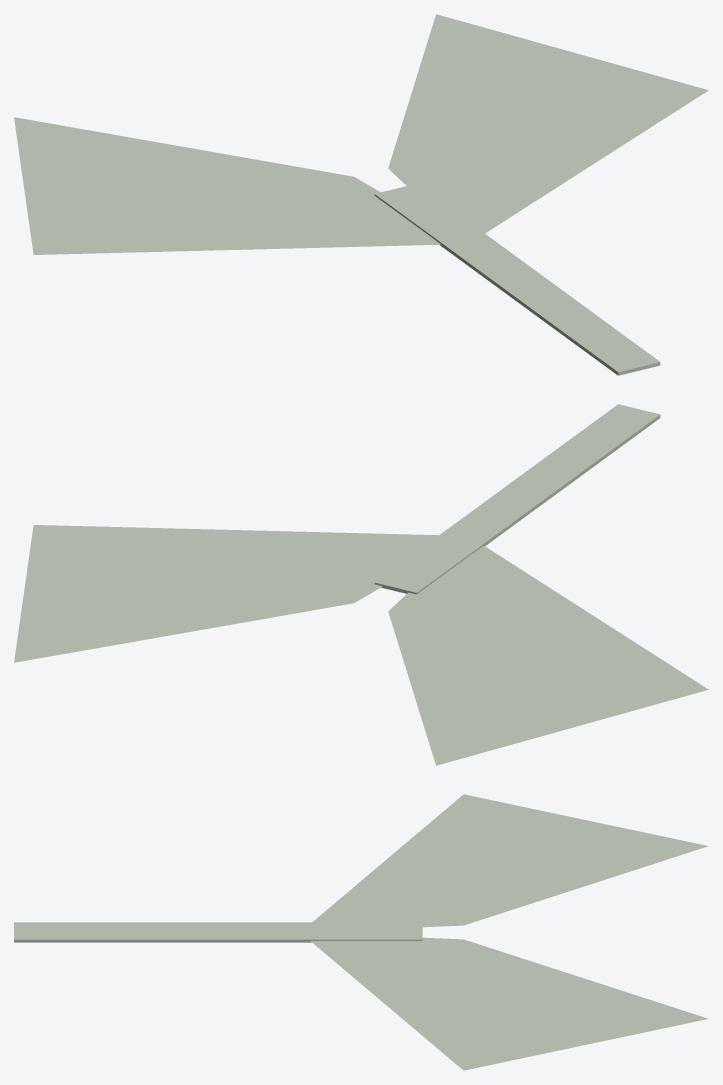
File: SM_MP_Half_Sprout.fbx
3 views of the same model, one above another, from view 1: azimuth 30°, elevation 25°; view 2: azimuth 150°, elevation 25°; view 3: azimuth 270°, elevation 25° (orthographic). The views are drawn at different scales.
Visible parts, largest first — view 1: SM_MP_Half_Sprout; view 2: SM_MP_Half_Sprout; view 3: SM_MP_Half_Sprout.
Boxes of the visible parts, x1,y1,x2,y2 form: SM_MP_Half_Sprout: [14, 14, 708, 375]; SM_MP_Half_Sprout: [14, 404, 708, 765]; SM_MP_Half_Sprout: [14, 794, 708, 1070].
Size of the model in its own units: 800 by 850 by 4.
Materials: 1 (1 with a texture image).
